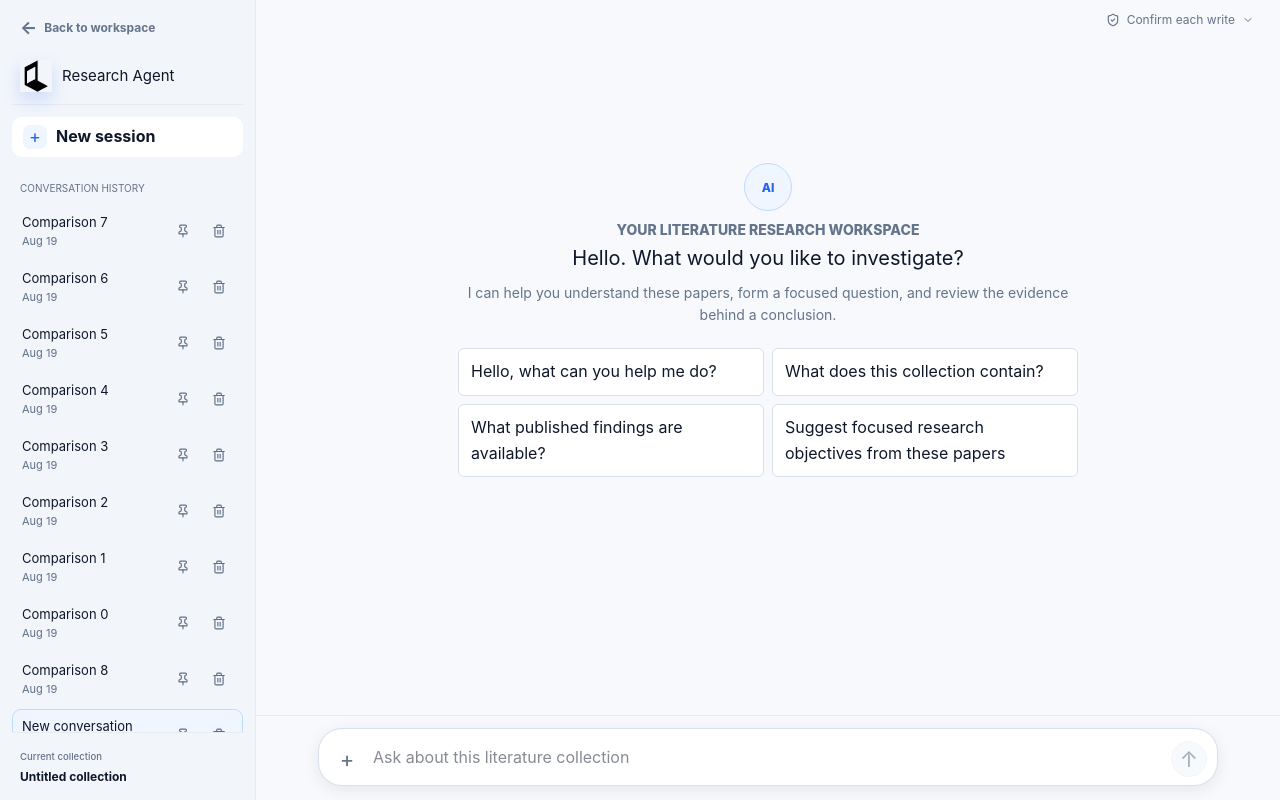
it: collections/[id]/assistant Research Agent › ignores a late history pin response after logout
Check: the text box named "Message" is enabled, box [373,737,1163,777]
Click the 1st button named "Pin conversation" at (183, 231), box [169,217,197,245]
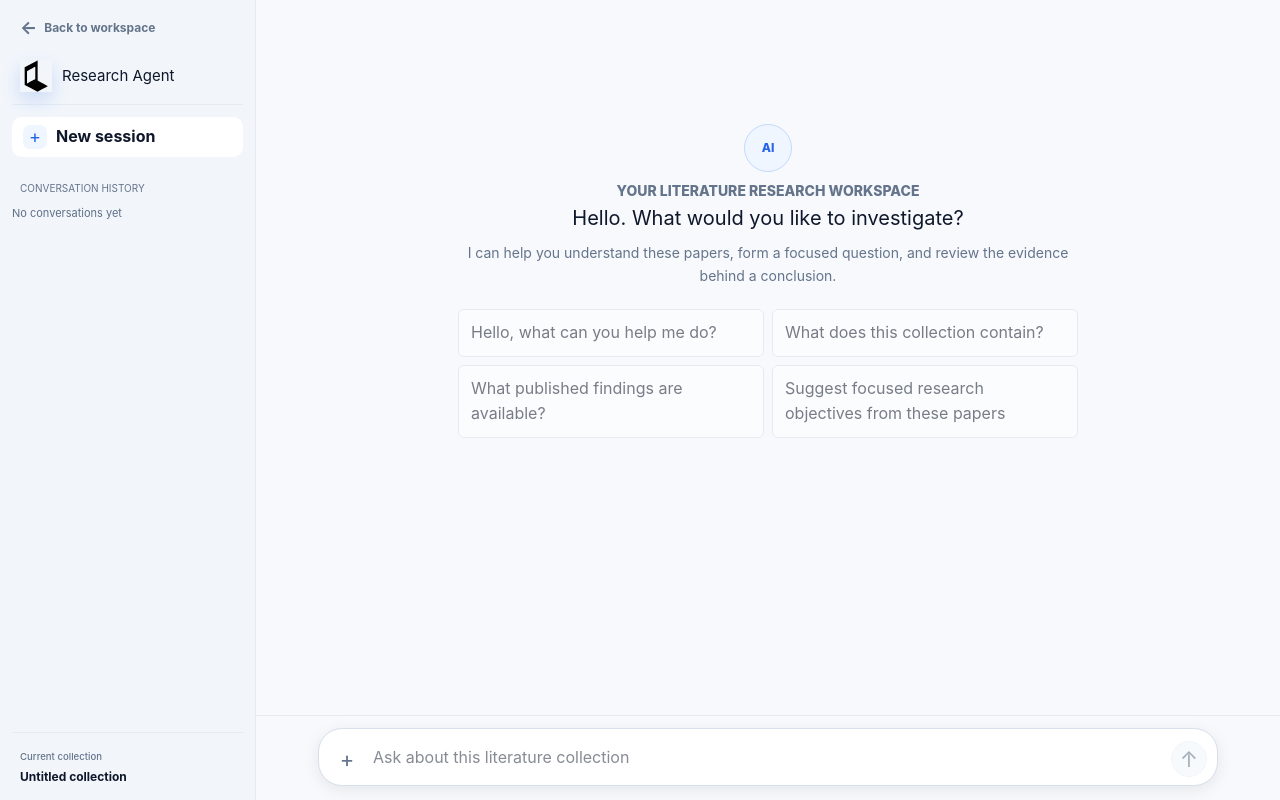
Check: the text box named "Message" is disabled, box [373,737,1163,777]
Check: no elements with class "history-item" are shown
